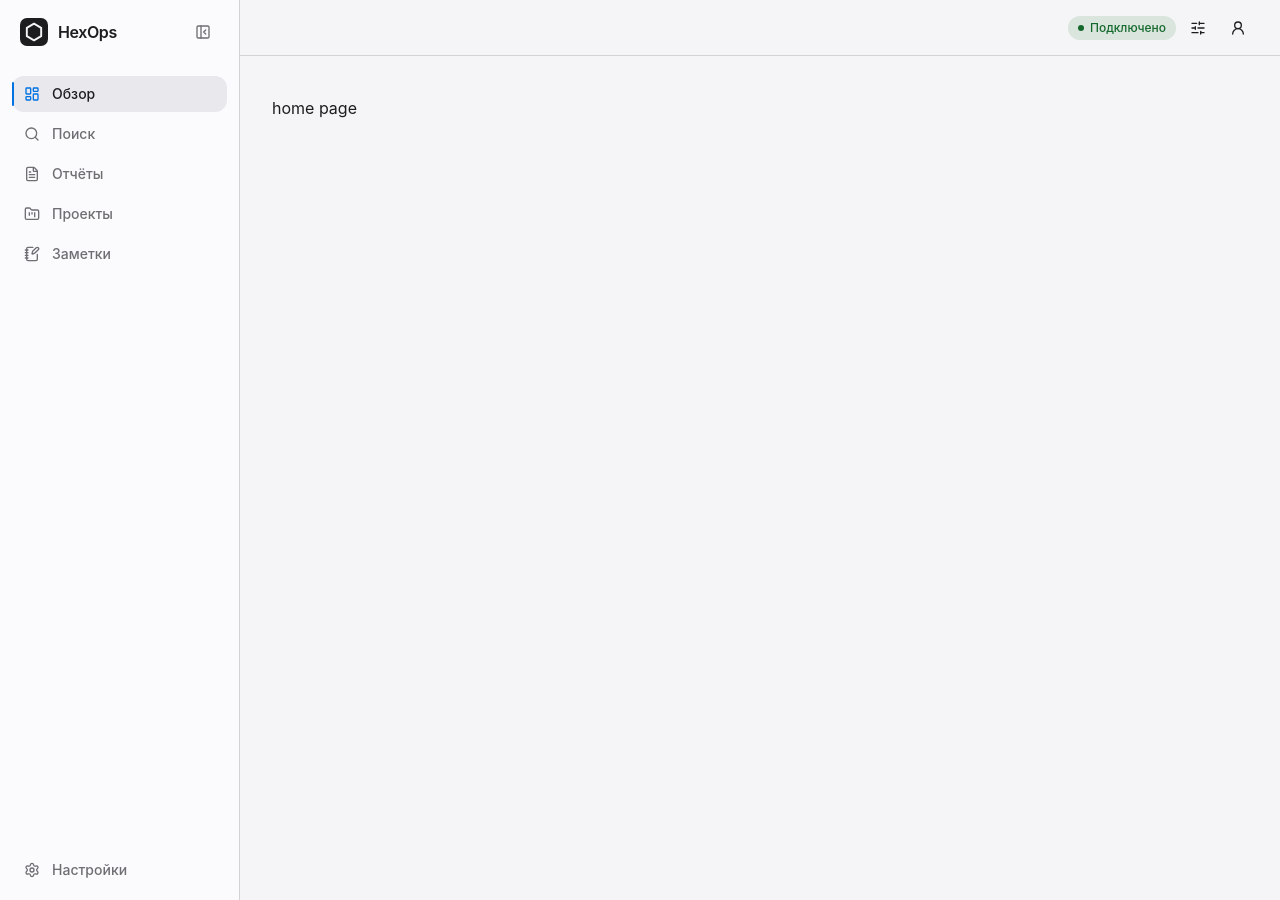
Test case: collapsible desktop sidebar › is labelled in ru
What coordinates should you click on to do the following:
click the button named "Свернуть боковую панель"
I would click on:
 (203, 32)
Its box is [187,16,219,48].
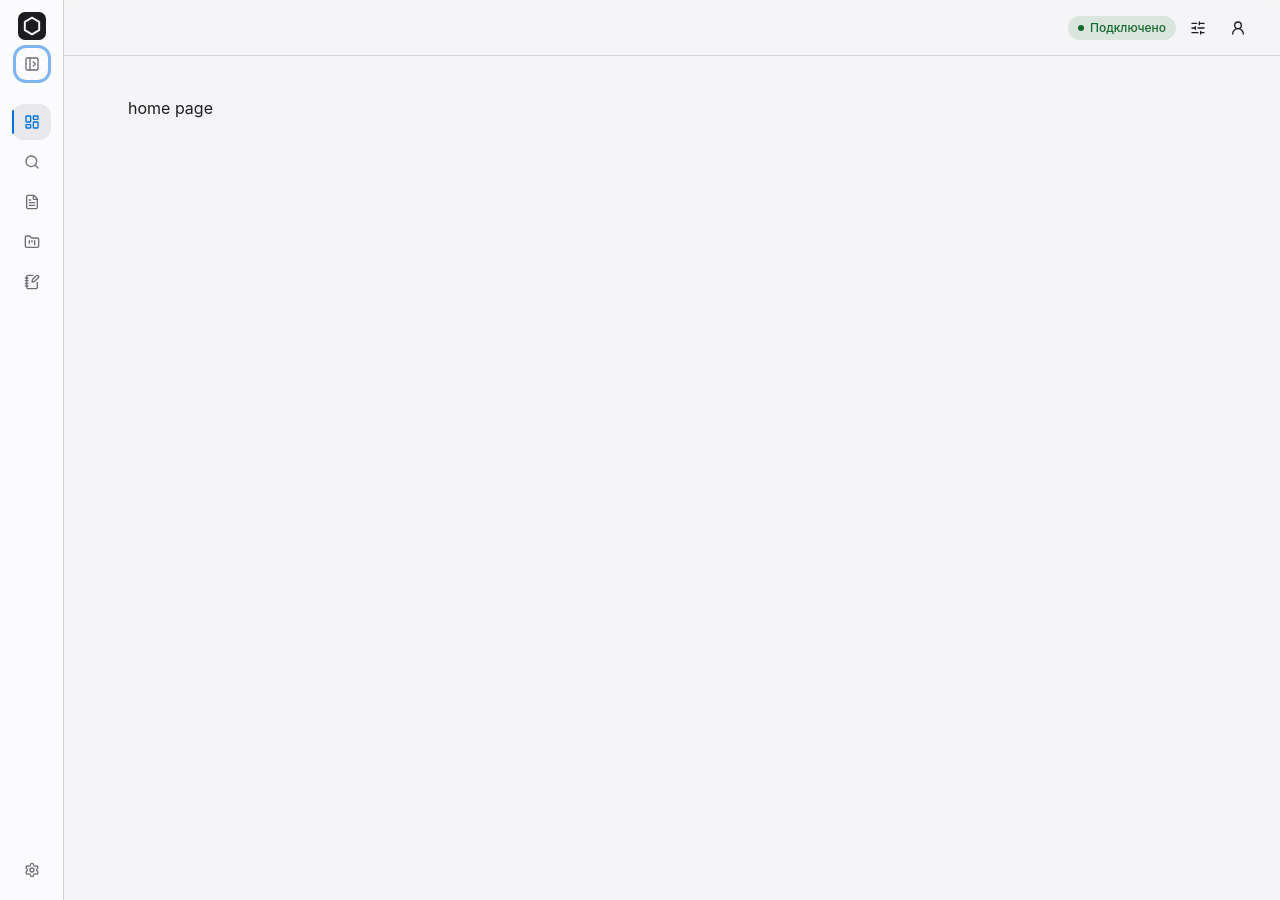
Check: the button named "Развернуть боковую панель" is shown, box [16,48,48,80]
